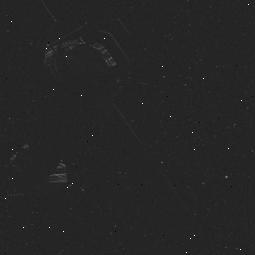xmm_newton: (1, 32, 145, 204)
